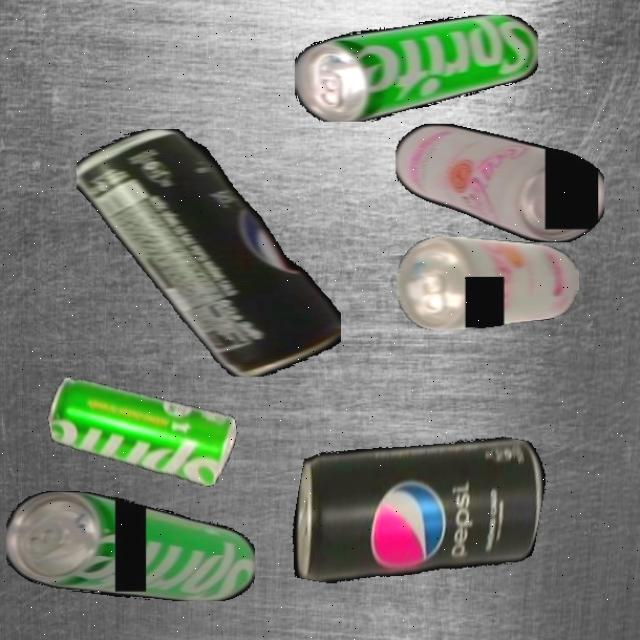debris: (77, 128, 341, 377), (284, 404, 552, 617), (42, 350, 245, 511), (6, 490, 255, 601), (295, 13, 538, 122), (394, 124, 604, 242), (397, 236, 579, 331)
